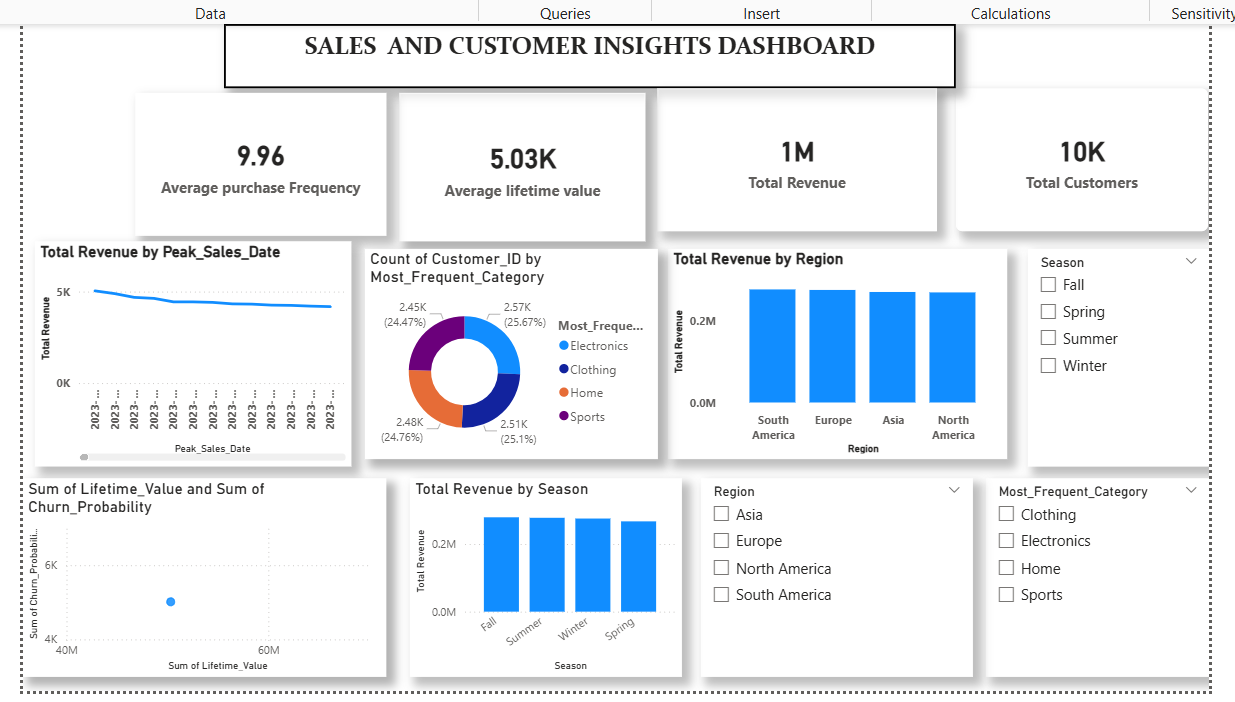

Layout of this report page (visuals, bound fields, positions):
{"tool":"powerbi","page":{"name":"Page 1","canvas":[1280,720],"ordinal":0},"visuals":[{"type":"card","fields":{"Values":["files sales_and_customer_insights csv.Total Customers"]},"box":[1007.2,69.6,272,153.8],"z":0},{"type":"textbox","box":[217,0,790.2,69.6],"z":1},{"type":"card","fields":{"Values":["files sales_and_customer_insights csv.Total Revenue"]},"box":[684.9,69.6,301.2,153.8],"z":2},{"type":"card","fields":{"Values":["files sales_and_customer_insights csv.Average lifetime value"]},"box":[406.4,74.5,265.6,160.3],"z":3},{"type":"card","fields":{"Values":["files sales_and_customer_insights csv.Average purchase Frequency"]},"box":[121.4,74.5,270.4,153.8],"z":4},{"type":"lineChart","fields":{"Y":["files sales_and_customer_insights csv.Total Revenue"],"Category":["files sales_and_customer_insights csv.Peak_Sales_Date"]},"box":[13,234.8,341.7,242.9],"z":5},{"type":"clusteredColumnChart","fields":{"Category":["files sales_and_customer_insights csv.Region"],"Y":["files sales_and_customer_insights csv.Total Revenue"]},"box":[696.3,242.9,365.9,226.7],"z":6},{"type":"donutChart","fields":{"Category":["files sales_and_customer_insights csv.Most_Frequent_Category"],"Y":["CountNonNull(files sales_and_customer_insights csv.Customer_ID)"]},"box":[369.2,242.9,315.7,226.7],"z":7},{"type":"scatterChart","fields":{"X":["Sum(files sales_and_customer_insights csv.Lifetime_Value)"],"Y":["Sum(files sales_and_customer_insights csv.Churn_Probability)"]},"box":[0,490.6,391.9,213.7],"z":8},{"type":"slicer","fields":{"Values":["files sales_and_customer_insights csv.Season"]},"box":[1084.9,242.9,195.9,234.8],"z":9},{"type":"slicer","fields":{"Values":["files sales_and_customer_insights csv.Most_Frequent_Category"]},"box":[1039.5,490.6,241.3,213.7],"z":10},{"type":"slicer","fields":{"Values":["files sales_and_customer_insights csv.Region"]},"box":[731.9,490.6,293.1,213.7],"z":11},{"type":"columnChart","fields":{"Category":["files sales_and_customer_insights csv.Season"],"Y":["files sales_and_customer_insights csv.Total Revenue"]},"box":[417.8,490.6,293.1,213.7],"z":12}]}

Visuals, with their boxes in screenshot pixels (x1, y1, x2, y2):
card - files sales_and_customer_insights csv.Total Customers: box(957, 83, 1206, 224)
textbox: box(231, 19, 957, 83)
card - files sales_and_customer_insights csv.Total Revenue: box(661, 83, 937, 224)
card - files sales_and_customer_insights csv.Average lifetime value: box(405, 88, 649, 235)
card - files sales_and_customer_insights csv.Average purchase Frequency: box(144, 88, 392, 229)
lineChart - files sales_and_customer_insights csv.Total Revenue x files sales_and_customer_insights csv.Peak_Sales_Date: box(44, 235, 358, 458)
clusteredColumnChart - files sales_and_customer_insights csv.Region x files sales_and_customer_insights csv.Total Revenue: box(671, 242, 1007, 450)
donutChart - files sales_and_customer_insights csv.Most_Frequent_Category x CountNonNull(files sales_and_customer_insights csv.Customer_ID): box(371, 242, 661, 450)
scatterChart - Sum(files sales_and_customer_insights csv.Lifetime_Value) x Sum(files sales_and_customer_insights csv.Churn_Probability): box(32, 470, 392, 666)
slicer - files sales_and_customer_insights csv.Season: box(1028, 242, 1208, 458)
slicer - files sales_and_customer_insights csv.Most_Frequent_Category: box(986, 470, 1208, 666)
slicer - files sales_and_customer_insights csv.Region: box(704, 470, 973, 666)
columnChart - files sales_and_customer_insights csv.Season x files sales_and_customer_insights csv.Total Revenue: box(416, 470, 685, 666)
